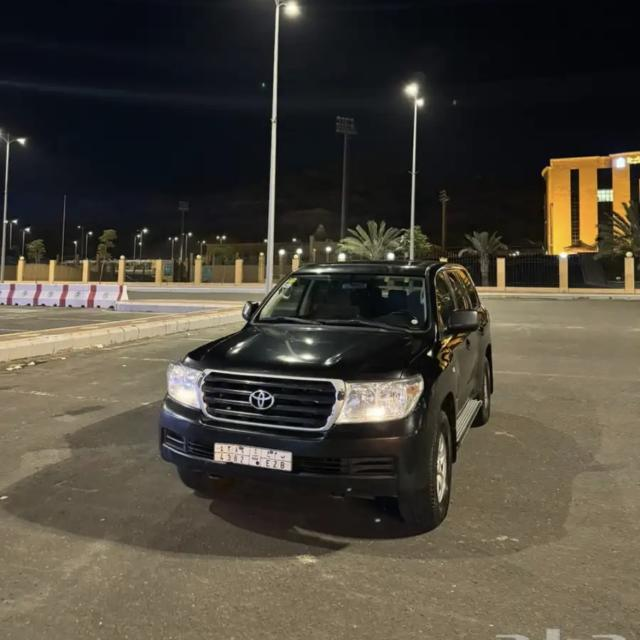license_plate: (214, 442, 294, 472)
